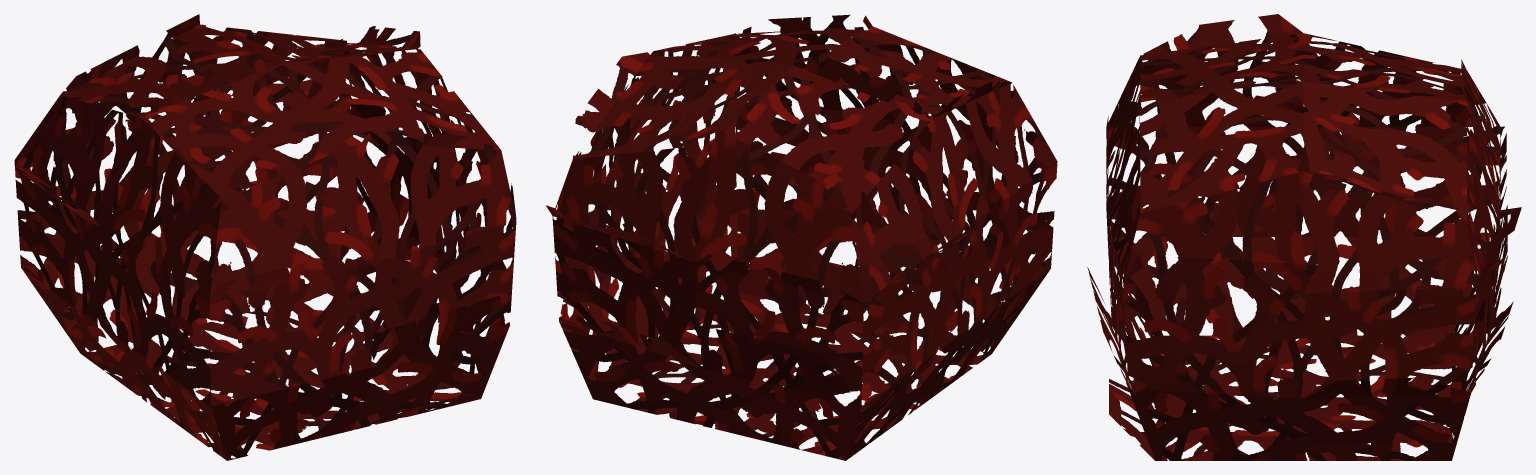
File: thorny_bush.fbx
3 renders of one model, left to right at view 1: azimuth 30°, elevation 25°; view 2: azimuth 150°, elevation 25°; view 3: azimuth 270°, elevation 25°, orthographic.
Parts seen in each view (by area): view 1: Cube; view 2: Cube; view 3: Cube.
Boxes of the visible parts, x1,y1,x2,y2 form: Cube: (14,14,516,460); Cube: (546,14,1057,460); Cube: (1087,14,1521,460).
Size of the model in its own units: 133 by 113 by 133.
Materials: 1 (1 with a texture image).
